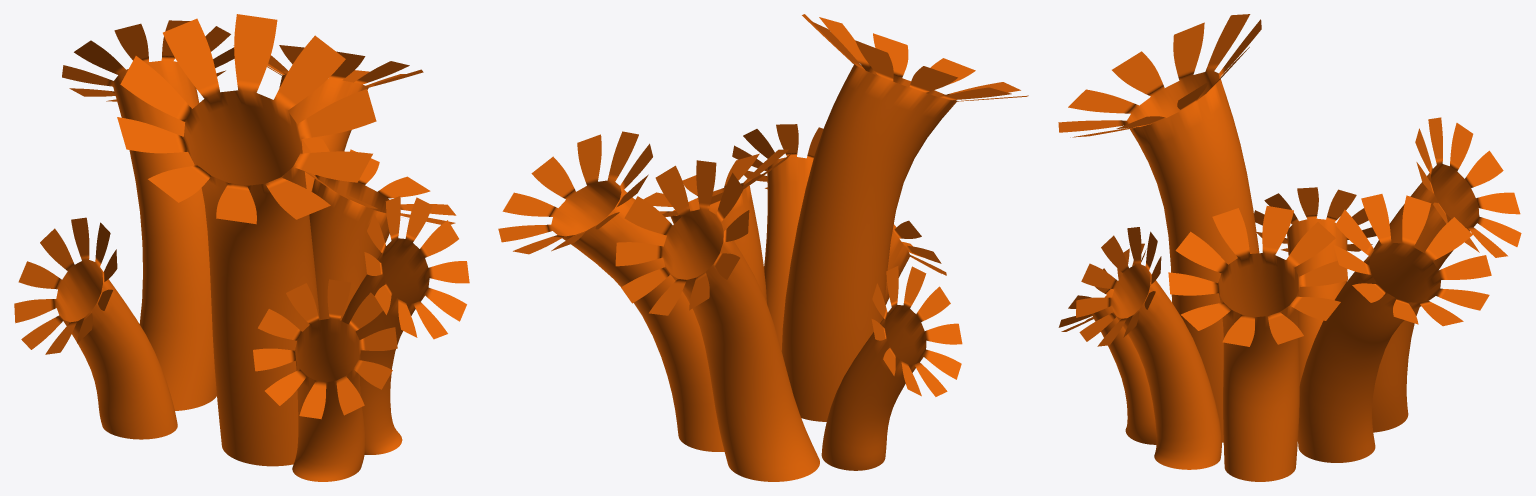
Rendered from coral_orange.fbx.
The picture shows the model from 3 angles, left to right: view 1: azimuth 30°, elevation 25°; view 2: azimuth 150°, elevation 25°; view 3: azimuth 270°, elevation 25°; orthographic projection. The views are drawn at different scales.
Parts seen in each view (by area): view 1: orange_coral3, orange_coral2, orange_coral7, orange_coral8, orange_coral5, orange_coral6, orange_coral4; view 2: orange_coral3, orange_coral2, orange_coral4, orange_coral7, orange_coral5, orange_coral6, orange_coral8; view 3: orange_coral6, orange_coral3, orange_coral4, orange_coral5, orange_coral2, orange_coral7, orange_coral8.
Boxes of the visible parts, x1,y1,x2,y2 form: orange_coral3: (117, 14, 376, 466); orange_coral2: (62, 20, 234, 410); orange_coral7: (14, 217, 177, 439); orange_coral8: (253, 279, 397, 481); orange_coral5: (341, 196, 469, 454); orange_coral6: (302, 137, 456, 320); orange_coral4: (233, 45, 423, 191); orange_coral3: (781, 14, 1028, 421); orange_coral2: (615, 160, 819, 481); orange_coral4: (498, 131, 724, 451); orange_coral7: (821, 266, 962, 470); orange_coral5: (732, 124, 823, 350); orange_coral6: (643, 149, 791, 303); orange_coral8: (885, 220, 946, 304); orange_coral6: (1168, 206, 1347, 481); orange_coral3: (1058, 14, 1261, 442); orange_coral4: (1298, 194, 1491, 462); orange_coral5: (1076, 227, 1221, 469); orange_coral2: (1372, 117, 1521, 432); orange_coral7: (1254, 187, 1376, 385); orange_coral8: (1058, 243, 1156, 444).
Size of the model in its own units: 311 by 295 by 330.
